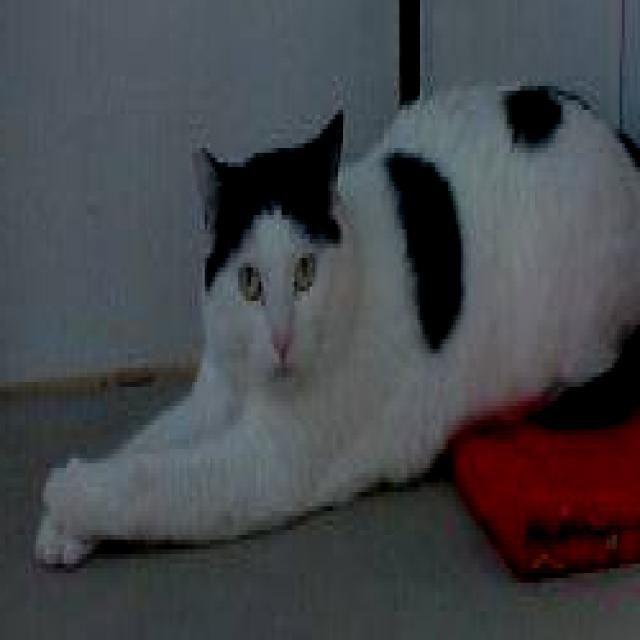Kucing: (24, 48, 639, 592)
